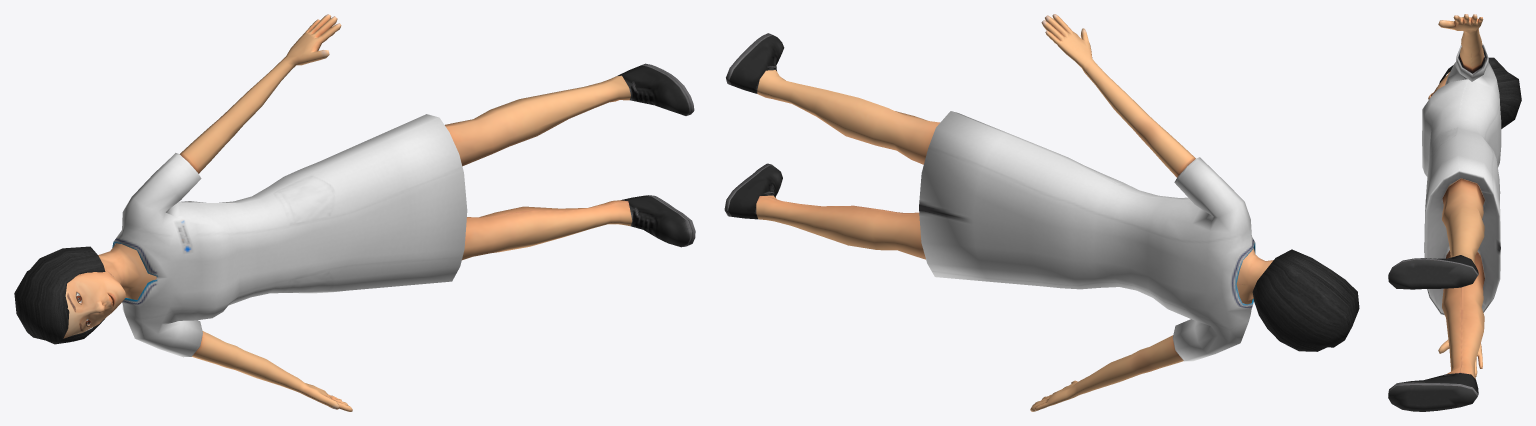
File: nurse_supine.glb
3 views of the same model, side by side, from view 1: azimuth 30°, elevation 25°; view 2: azimuth 150°, elevation 25°; view 3: azimuth 270°, elevation 25° (orthographic). The views are drawn at different scales.
Parts seen in each view (by area): view 1: world; view 2: world; view 3: world.
Boxes of the visible parts, box(x1,y1,x2,y2) form: world: box(14, 14, 695, 411); world: box(724, 14, 1359, 411); world: box(1388, 14, 1521, 411).
Bounding box in the file's own units: 1.61 × 0.967 × 0.3259.
Materials: 1 (1 with a texture image).
